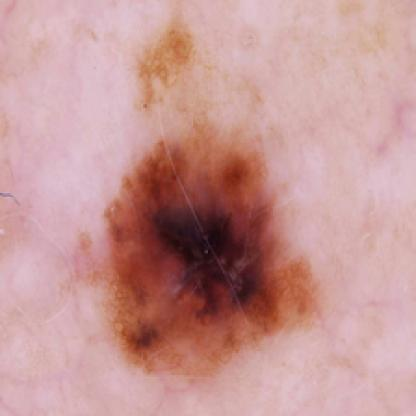Skin_Cancer-Malignant: (102, 124, 322, 385)
